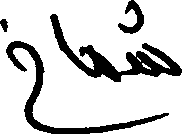ا: (49, 12, 76, 74)
خ: (0, 16, 43, 132)
ش: (126, 0, 181, 83)
م: (79, 21, 125, 85)
